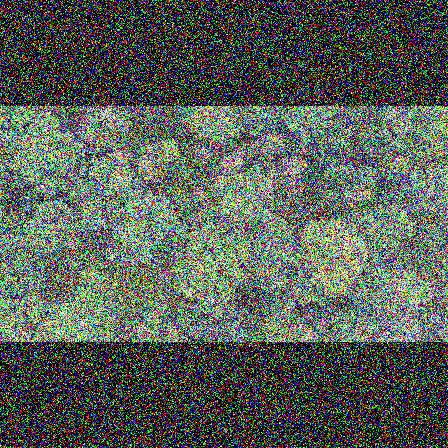Dead: (186, 135, 217, 170), (206, 315, 227, 341)
